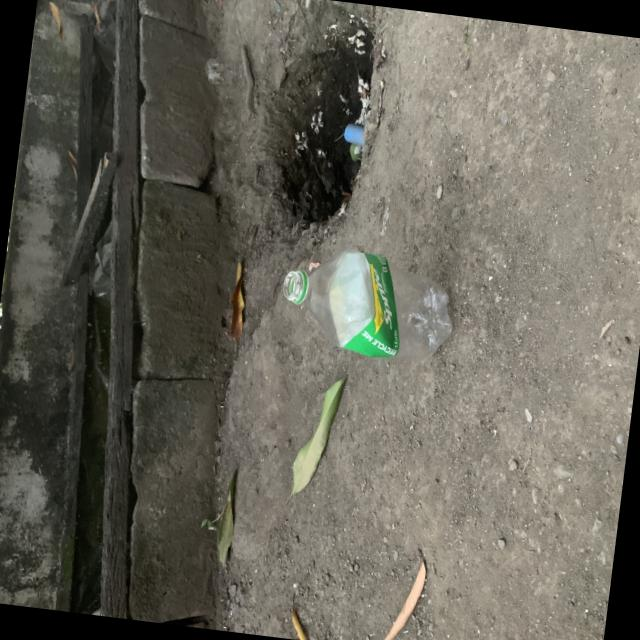Bottle: (282, 249, 452, 359)
